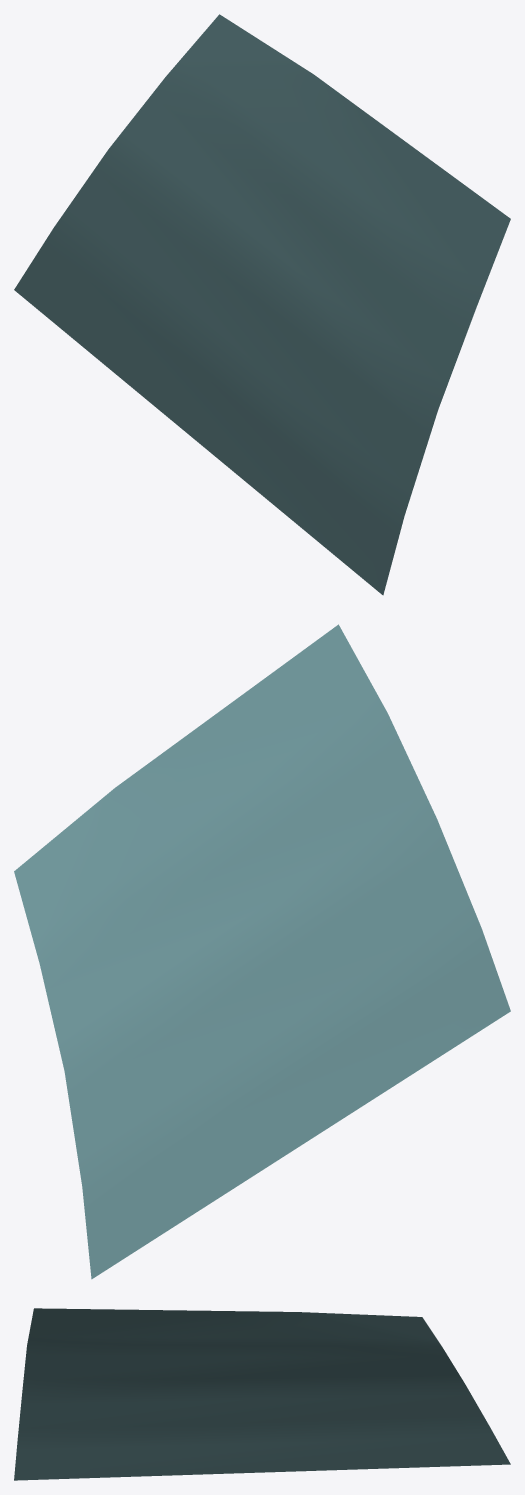
File: SUV_2_Door_Window_RR_Tessellate.fbx
3 views of the same model, one above another, from view 1: azimuth 30°, elevation 25°; view 2: azimuth 150°, elevation 25°; view 3: azimuth 270°, elevation 25° (orthographic). The views are drawn at different scales.
Parts seen in each view (by area): view 1: SUV_2_Door_Window_RR_Tessellate; view 2: SUV_2_Door_Window_RR_Tessellate; view 3: SUV_2_Door_Window_RR_Tessellate.
Part boxes in pixels (x1,y1,x2,y2): SUV_2_Door_Window_RR_Tessellate: [14, 14, 510, 595]; SUV_2_Door_Window_RR_Tessellate: [14, 624, 510, 1279]; SUV_2_Door_Window_RR_Tessellate: [14, 1308, 510, 1480].
Size of the model in its own units: 17.75 by 38.23 by 78.93.
